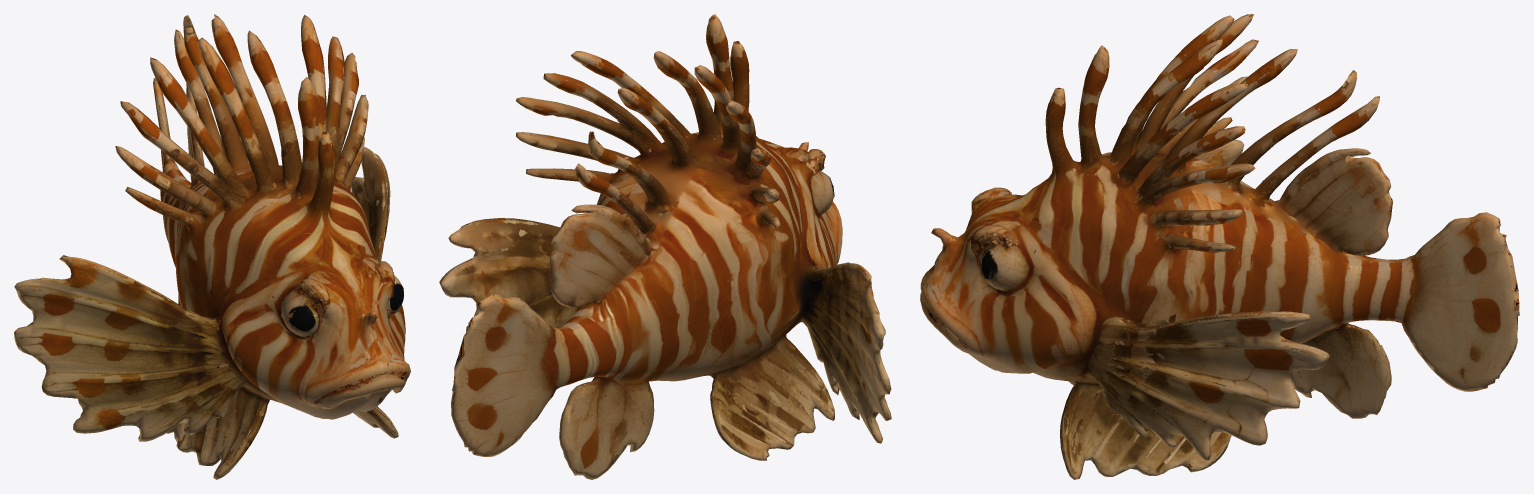
Rendered from lion_fish.glb.
3 views of the same model, side by side, from view 1: azimuth 30°, elevation 25°; view 2: azimuth 150°, elevation 25°; view 3: azimuth 270°, elevation 25° (orthographic). The views are drawn at different scales.
Visible parts, largest first — view 1: B_0; view 2: B_0; view 3: B_0.
Part boxes in pixels (x1,y1,x2,y2): B_0: (14, 14, 410, 479); B_0: (439, 14, 891, 479); B_0: (920, 14, 1519, 479).
Size of the model in its own units: 0.8684 by 0.8099 by 1.1.
1 material, 1 textured.
